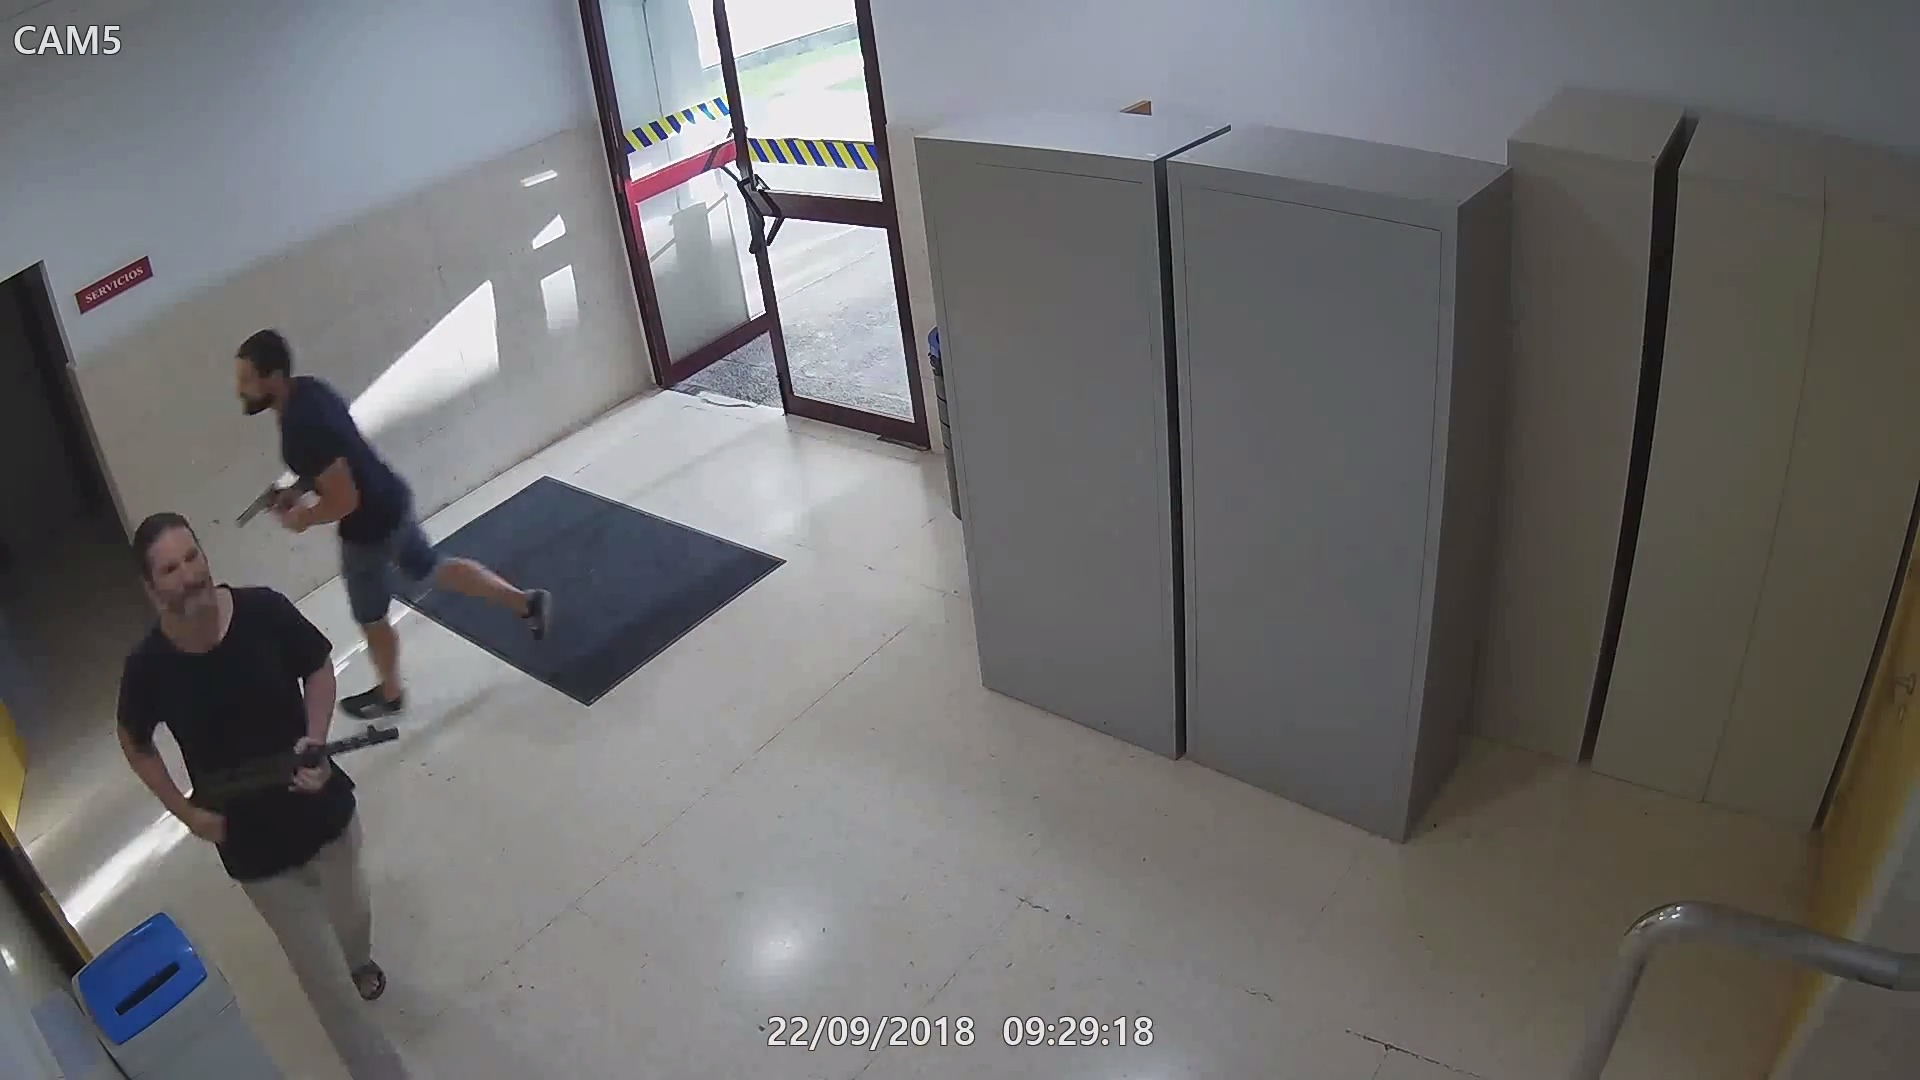Handgun: (232, 477, 306, 531)
Short_rifle: (183, 715, 407, 843)
